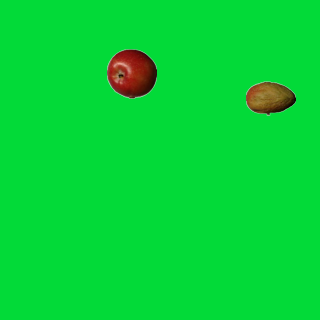Apple Braeburn: (106, 48, 156, 98)
Papaya: (245, 73, 295, 123)
